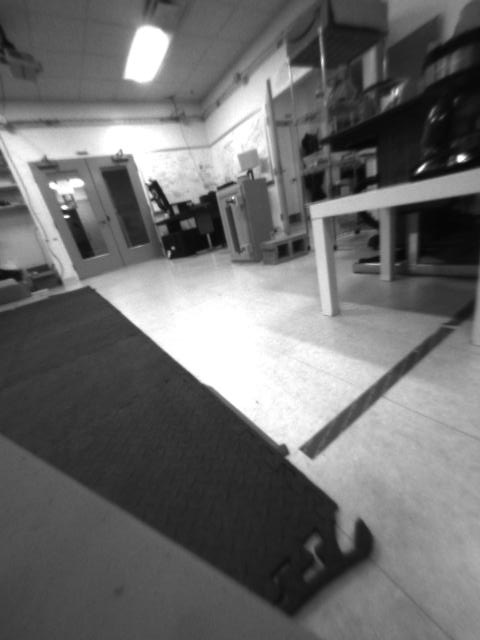coffee_pot: (414, 31, 480, 178)
